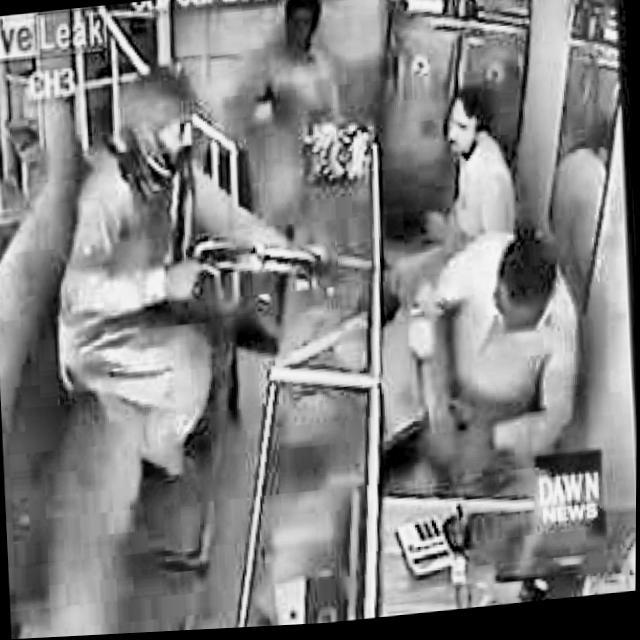Weapon: (438, 222, 602, 456), (80, 74, 263, 225), (254, 14, 428, 136), (436, 81, 567, 222)
